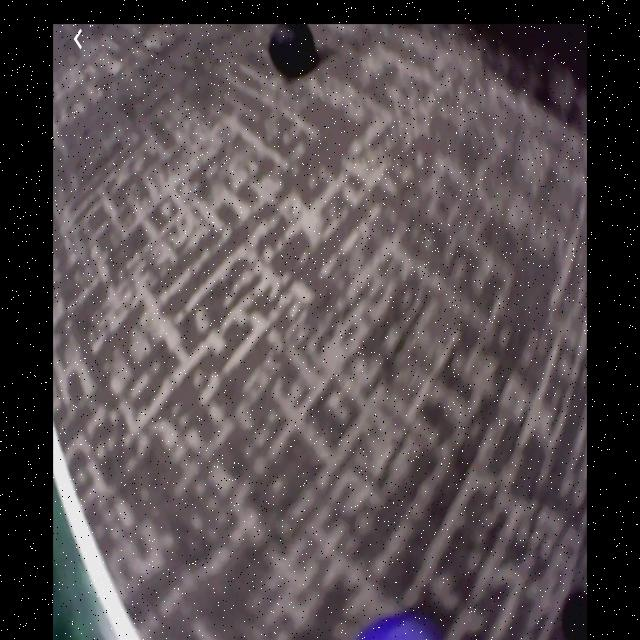ball: (357, 609, 439, 640)
